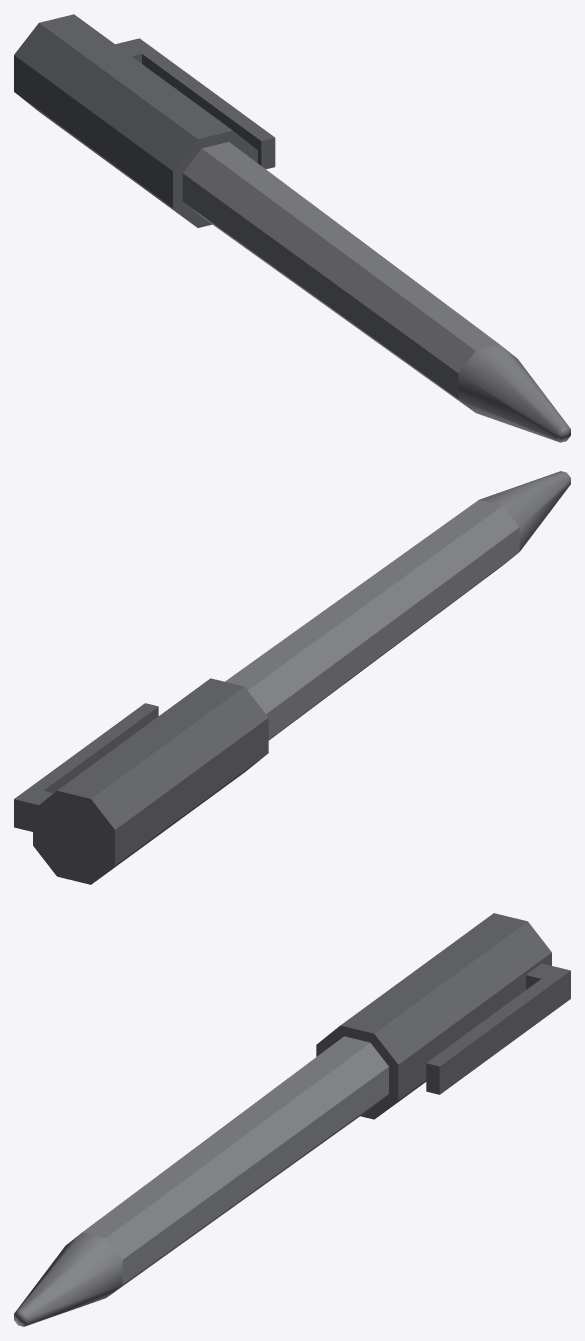
File: pen.fbx
The picture shows the model from 3 angles, top to bottom: view 1: azimuth 30°, elevation 25°; view 2: azimuth 150°, elevation 25°; view 3: azimuth 330°, elevation 25°; orthographic projection. The views are drawn at different scales.
Visible parts, largest first — view 1: pen1; view 2: pen1; view 3: pen1.
Boxes of the visible parts, box(x1,y1,x2,y2) form: pen1: box(14, 14, 570, 442); pen1: box(14, 471, 570, 884); pen1: box(14, 913, 570, 1326).
Size of the model in its own units: 3.7 by 2.73 by 28.19.
